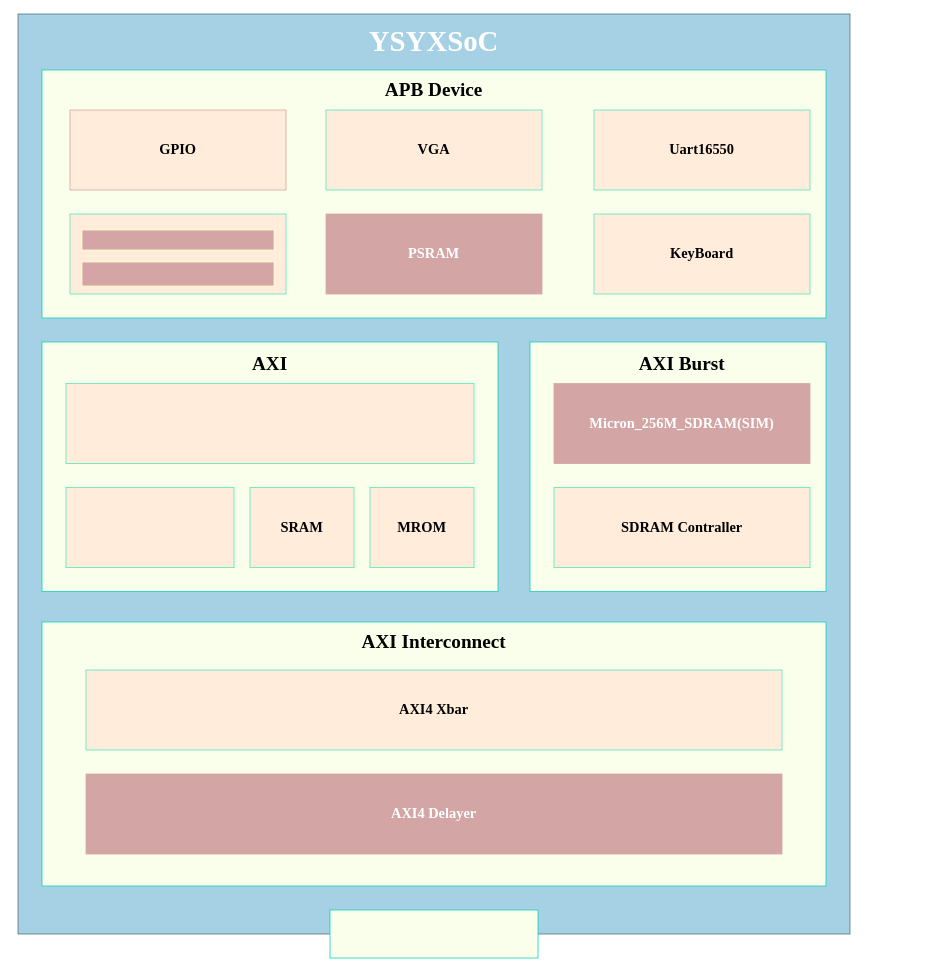
This 951x972 diagram has some shape labels left out. Each missing label, with the box of its shape:
APB Decoder: (65, 383, 474, 464)
APBToSPI: (81, 261, 274, 286)
AXI4: (329, 909, 538, 958)
AXI4ToAPB: (65, 487, 234, 568)
FLASH: (81, 229, 274, 250)
